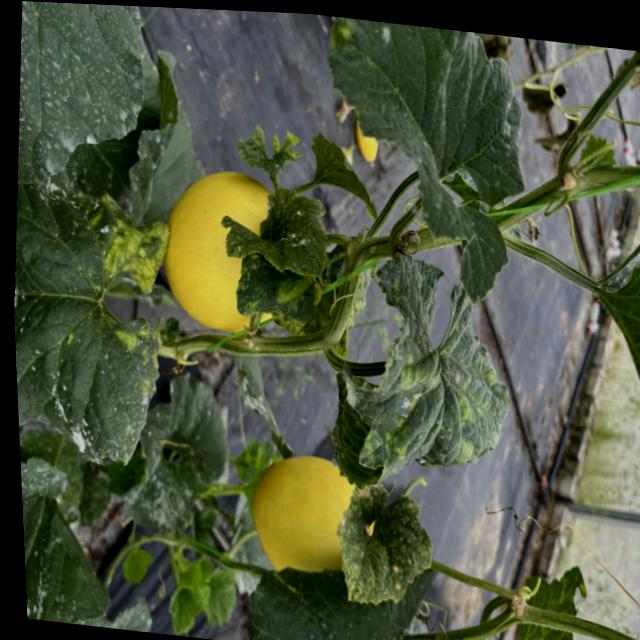CMV: (345, 240, 528, 490), (327, 470, 441, 618), (213, 178, 333, 282), (231, 248, 330, 333)
downy mildew: (308, 14, 542, 310)
healthy: (235, 542, 437, 640)
powdery mildew: (8, 181, 185, 472), (8, 0, 161, 204), (20, 457, 122, 628)
